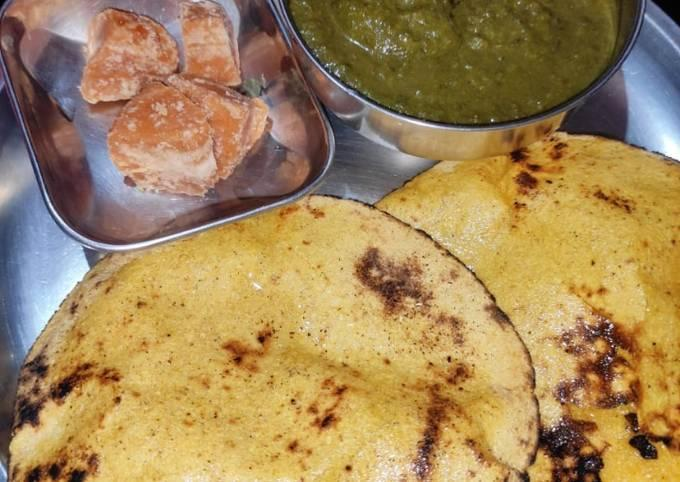saag: (290, 3, 644, 95)
